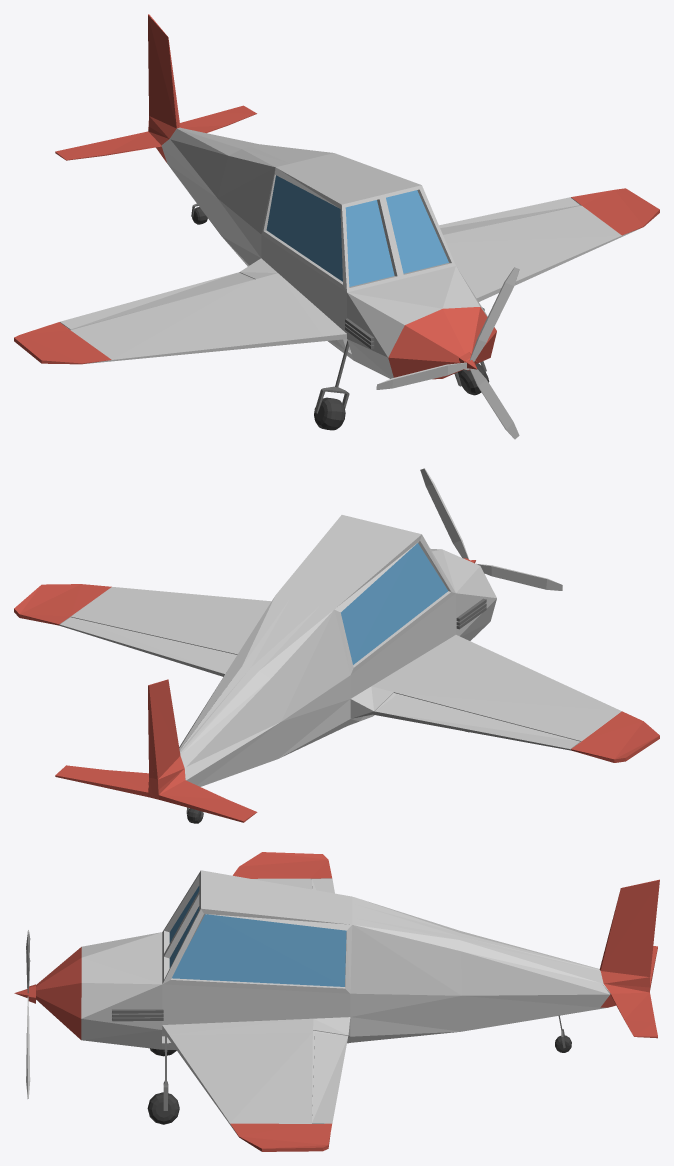
File: Flugzeug.fbx
3 renders of one model, top to bottom at view 1: azimuth 30°, elevation 25°; view 2: azimuth 150°, elevation 25°; view 3: azimuth 270°, elevation 25°, orthographic.
Visible parts, largest first — view 1: Cube2; view 2: Cube2; view 3: Cube2.
Part boxes in pixels (x1,y1,x2,y2): Cube2: [14, 14, 659, 439]; Cube2: [14, 468, 659, 823]; Cube2: [14, 852, 659, 1151].
Size of the model in its own units: 419 by 138 by 385.
